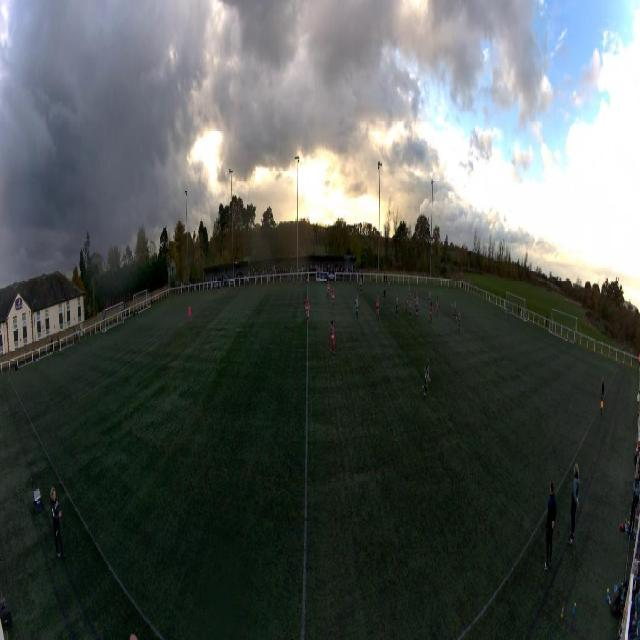ball: (452, 304, 453, 308)
player: (422, 359, 431, 396), (330, 320, 335, 357), (305, 295, 310, 325), (355, 294, 360, 318), (376, 295, 380, 320), (408, 295, 412, 319), (458, 309, 462, 331), (331, 287, 335, 309), (429, 303, 433, 324), (453, 300, 457, 320), (435, 297, 439, 315), (327, 280, 331, 297), (396, 294, 399, 316), (415, 295, 418, 315), (189, 304, 192, 324), (406, 294, 409, 314), (383, 286, 386, 306), (360, 276, 363, 294), (428, 291, 431, 309), (507, 302, 510, 318), (408, 282, 411, 297), (388, 277, 391, 291), (415, 292, 417, 311)
